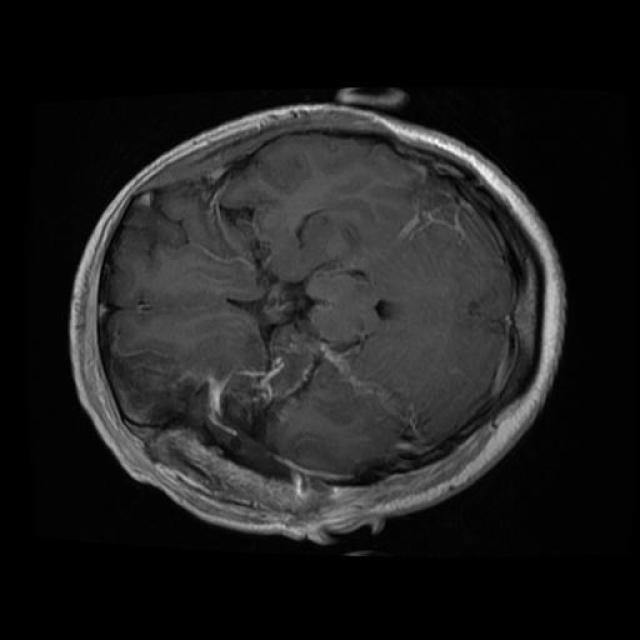Glioma: (206, 357, 293, 447)
